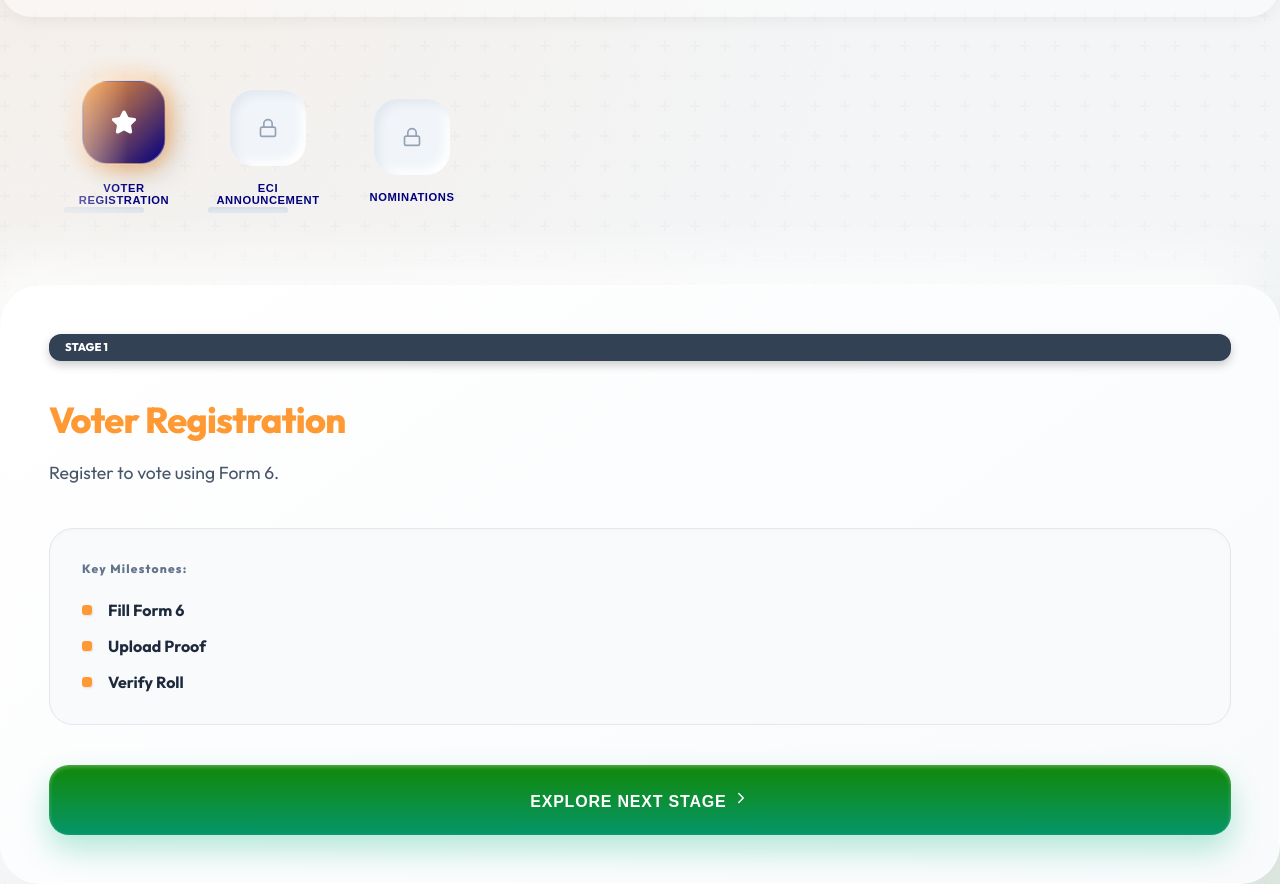
Test case: Timeline Component › should allow navigating back to previously unlocked stages
(page scrolled)
Note: Unlock stage 2
What coordinates should you click on to do the following:
click the button "Explore Next Stage"
I would click on:
 (640, 800)
Its box is [49, 764, 1231, 834].
(page scrolled)
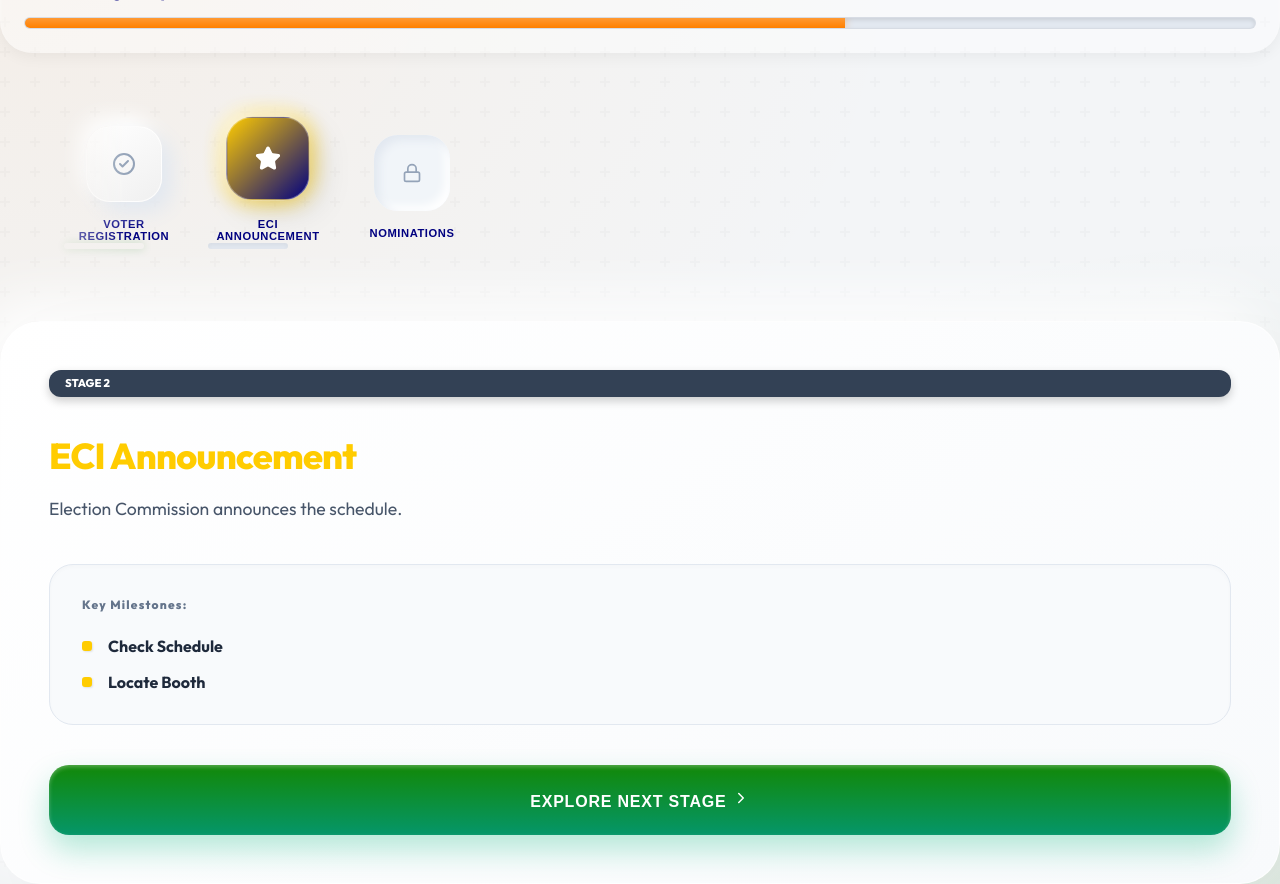
Note: Click on stage 1 node
What coordinates should you click on to do the following:
click the button "Voter Registration"
I would click on:
 (124, 184)
Its box is [64, 125, 184, 243].
(page scrolled)
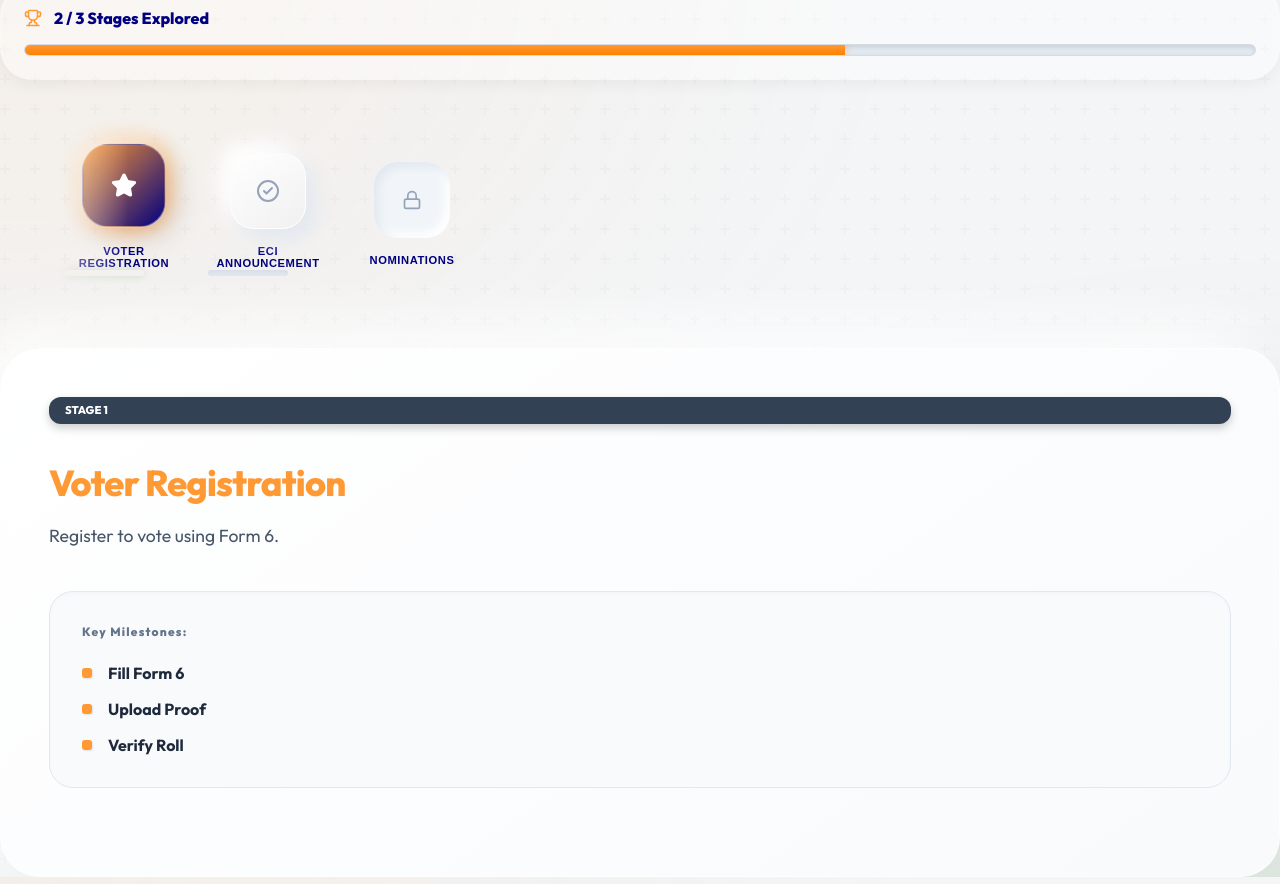
Check: the text "Register to vote using Form 6." is shown, box [49, 524, 279, 547]
